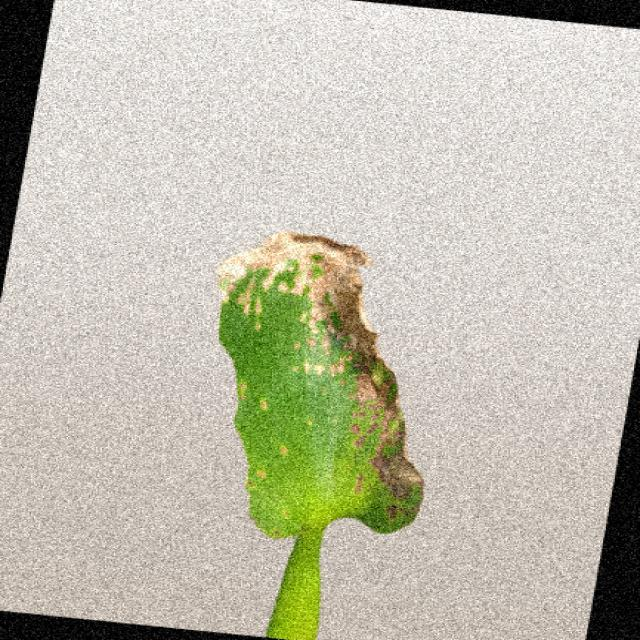daun berpenyakit bercak: (218, 232, 423, 639)
